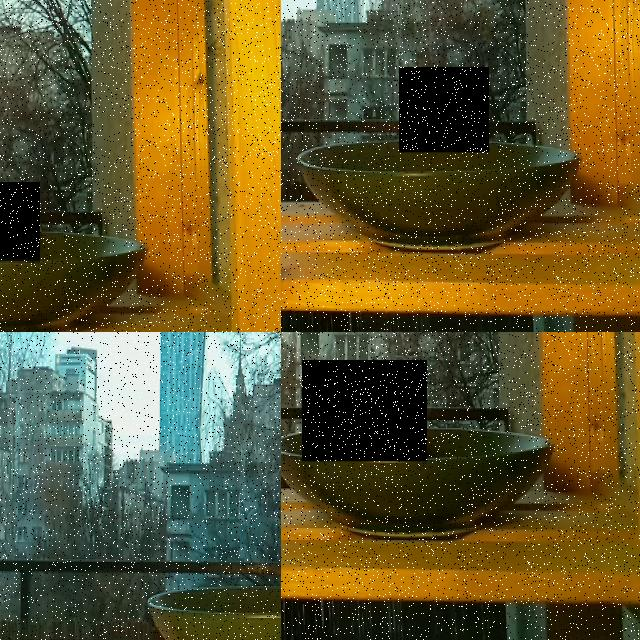Bogatka: (302, 360, 427, 461)
Wrobel: (399, 67, 489, 152), (0, 182, 40, 262)
